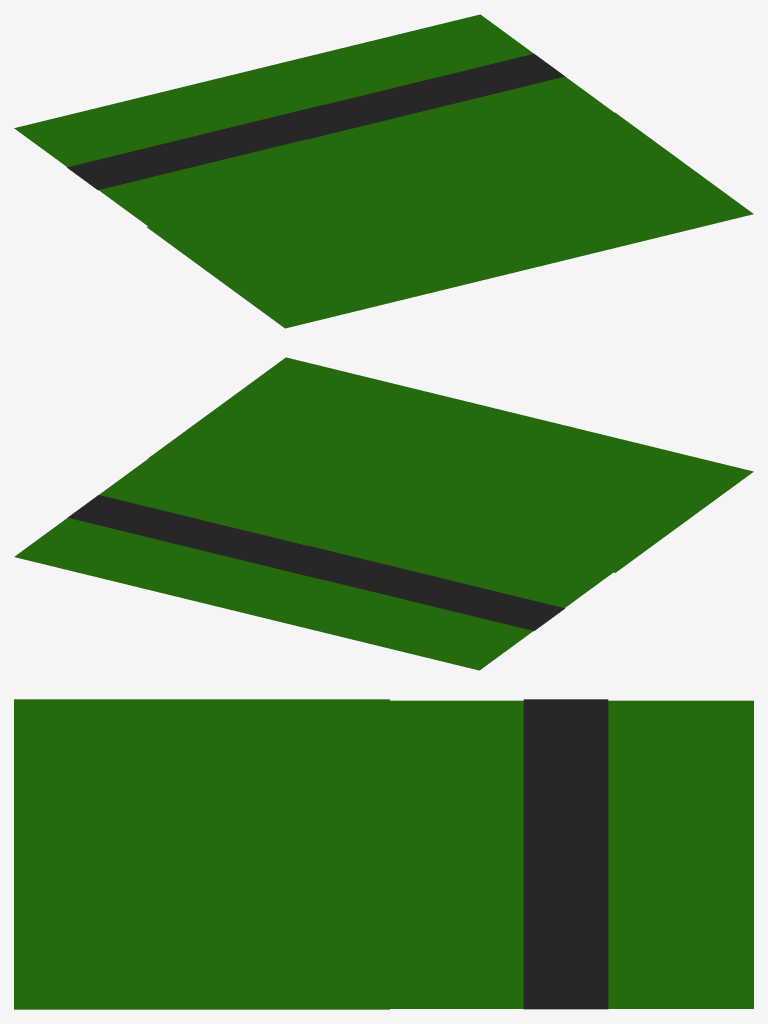
3 views of the same model, one above another, from view 1: azimuth 30°, elevation 25°; view 2: azimuth 150°, elevation 25°; view 3: azimuth 270°, elevation 25° (orthographic). The views are drawn at different scales.
Parts seen in each view (by area): view 1: 平面.006, 平面.002, 平面.003, 平面.005, 平面.004, 平面.001; view 2: 平面.002, 平面.006, 平面.005, 平面.003, 平面.004, 平面.001; view 3: 平面.002, 平面.006, 平面.003, 平面.005, 平面.004, 平面.001.
Part boxes in pixels (box(x1,y1,x2,y2)): 平面.006: box(147, 167, 496, 328); 平面.002: box(403, 112, 753, 276); 平面.003: box(223, 14, 618, 166); 平面.005: box(14, 70, 409, 229); 平面.004: box(67, 104, 354, 189); 平面.001: box(308, 54, 564, 139); 平面.002: box(148, 357, 541, 517); 平面.006: box(370, 409, 753, 572); 平面.005: box(223, 506, 617, 670); 平面.003: box(14, 455, 360, 619); 平面.004: box(277, 545, 564, 630); 平面.001: box(68, 495, 324, 580); 平面.002: box(14, 839, 389, 1009); 平面.006: box(14, 699, 389, 869); 平面.003: box(378, 839, 753, 1008); 平面.005: box(378, 700, 753, 870); 平面.004: box(523, 699, 608, 869); 平面.001: box(523, 869, 608, 1009).
Size of the model in its own units: 2554 by 2.02 by 2576.
